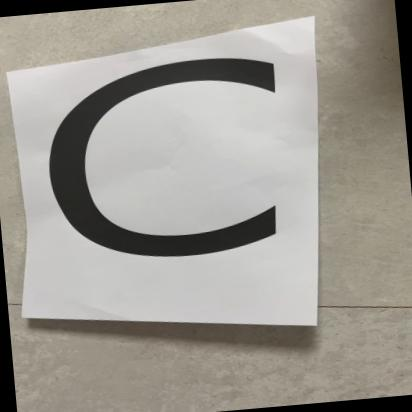seat: (23, 35, 312, 360)
